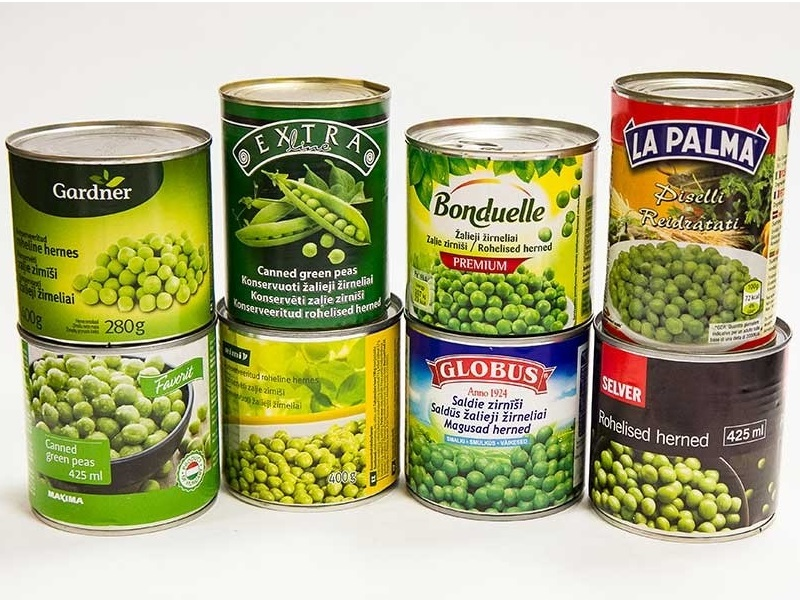peas: (593, 66, 800, 361), (201, 76, 415, 331), (1, 118, 224, 348), (583, 309, 787, 552), (8, 323, 225, 540), (208, 305, 412, 528), (403, 114, 603, 338), (396, 316, 604, 530)
